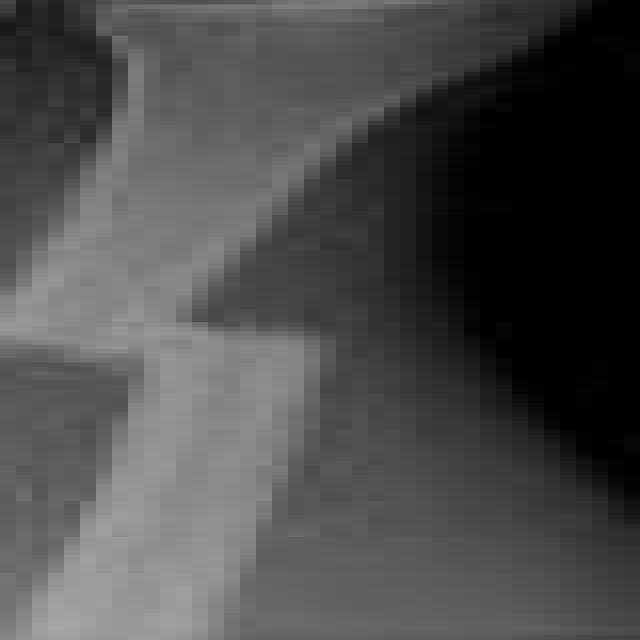Broken: (0, 2, 613, 330), (9, 340, 335, 638)
